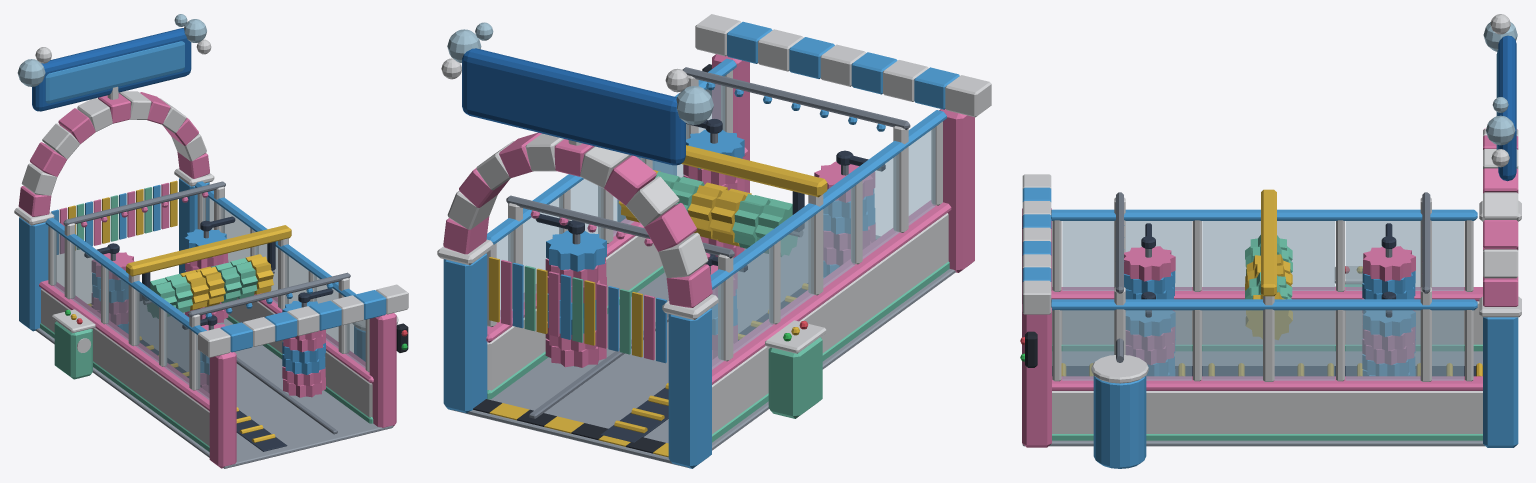
Rendered from tunnel.glb.
3 renders of one model, left to right at view 1: azimuth 30°, elevation 25°; view 2: azimuth 150°, elevation 25°; view 3: azimuth 270°, elevation 25°, orthographic. The views are drawn at different scales.
Parts seen in each view (by area): view 1: tunnel_body, tunnel_glass, brush_roller, brush_side_3, brush_side_0, brush_side_1, brush_side_2; view 2: tunnel_body, tunnel_glass, brush_roller, brush_side_1, brush_side_2, brush_side_3, brush_side_0; view 3: tunnel_body, tunnel_glass, brush_side_1, brush_side_3, brush_side_0, brush_roller, brush_side_2.
Boxes of the visible parts, x1,y1,x2,y2 form: tunnel_body: (14, 14, 408, 468); tunnel_glass: (53, 197, 365, 399); brush_roller: (143, 254, 274, 318); brush_side_3: (282, 292, 325, 397); brush_side_0: (92, 243, 134, 333); brush_side_1: (184, 220, 228, 323); brush_side_2: (200, 315, 224, 392); tunnel_body: (437, 14, 991, 468); tunnel_glass: (496, 76, 935, 369); brush_roller: (618, 170, 803, 256); brush_side_1: (545, 220, 606, 367); brush_side_2: (814, 150, 875, 277); brush_side_3: (683, 119, 744, 258); brush_side_0: (705, 254, 737, 359); tunnel_body: (1020, 14, 1521, 468); tunnel_glass: (1062, 221, 1463, 380); brush_side_1: (1362, 291, 1415, 375); brush_side_3: (1126, 291, 1175, 375); brush_side_0: (1362, 236, 1415, 352); brush_roller: (1245, 235, 1292, 339); brush_side_2: (1124, 236, 1175, 352).
Size of the model in its own units: 5.84 by 6.53 by 8.76.
